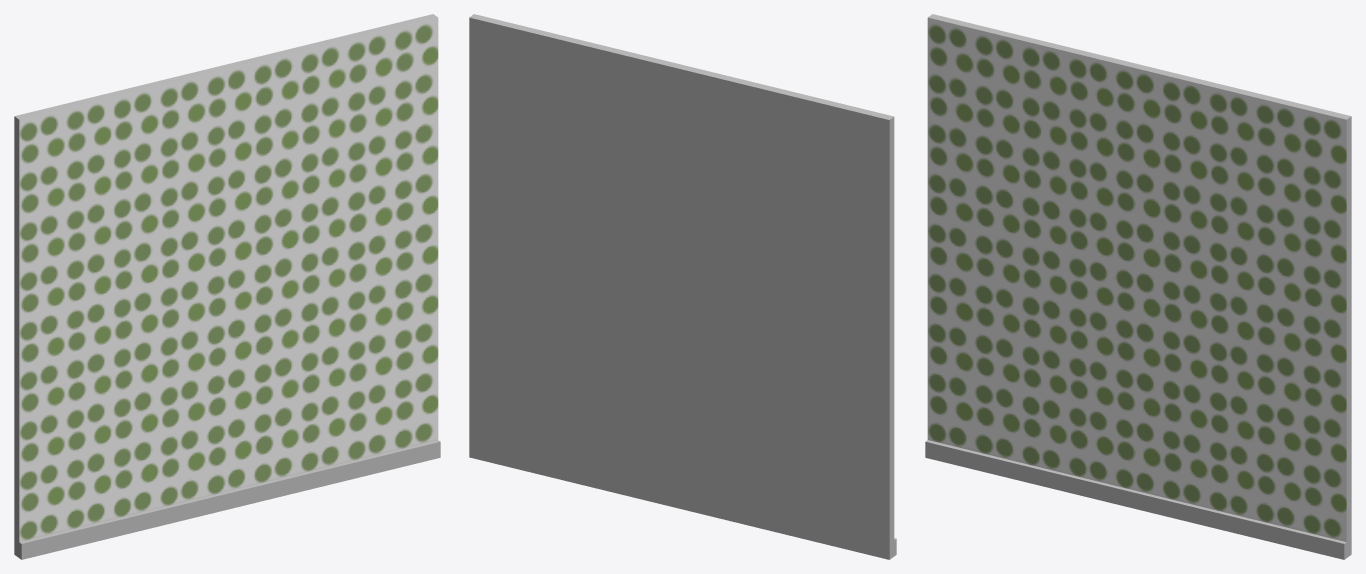
File: Wall_WP_13.FBX
The picture shows the model from 3 angles, left to right: view 1: azimuth 30°, elevation 25°; view 2: azimuth 150°, elevation 25°; view 3: azimuth 330°, elevation 25°; orthographic projection.
Visible parts, largest first — view 1: Wall_WP_01_5m; view 2: Wall_WP_01_5m; view 3: Wall_WP_01_5m.
Boxes of the visible parts, x1,y1,x2,y2 form: Wall_WP_01_5m: [14, 14, 440, 559]; Wall_WP_01_5m: [469, 14, 896, 559]; Wall_WP_01_5m: [925, 14, 1351, 559].
Size of the model in its own units: 19685 by 19685 by 591.
